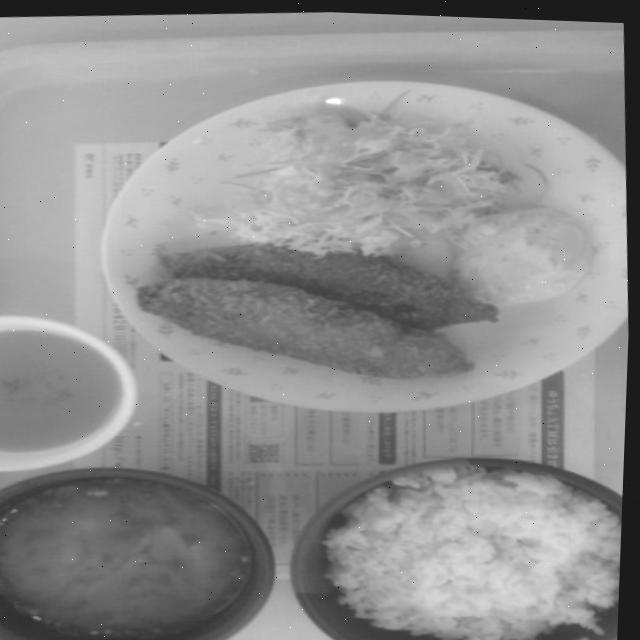汤锅炖物: (0, 445, 302, 640)
炸货点心: (120, 218, 496, 388)
熟制海鲜: (120, 218, 496, 388)
米饭主食: (273, 431, 628, 640)
蔬菜料理: (217, 80, 514, 264)
